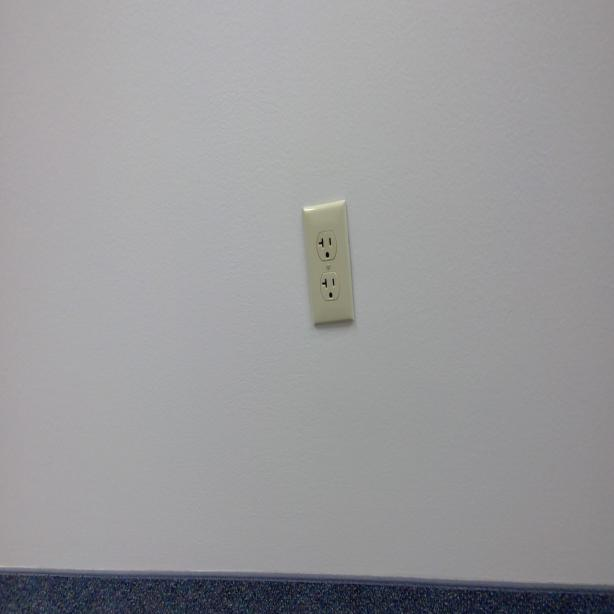typeb: (319, 272, 341, 302), (317, 230, 337, 262)
